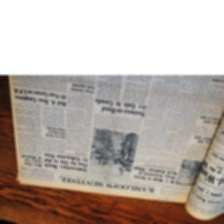news_paper: (6, 74, 223, 221)
